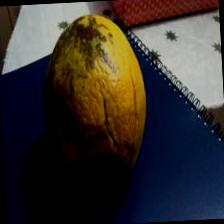Orange Rotten: (33, 1, 158, 207)
